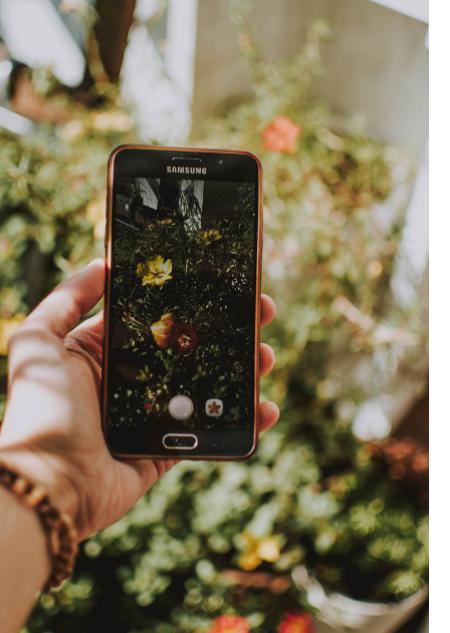mobile: (106, 144, 259, 460)
